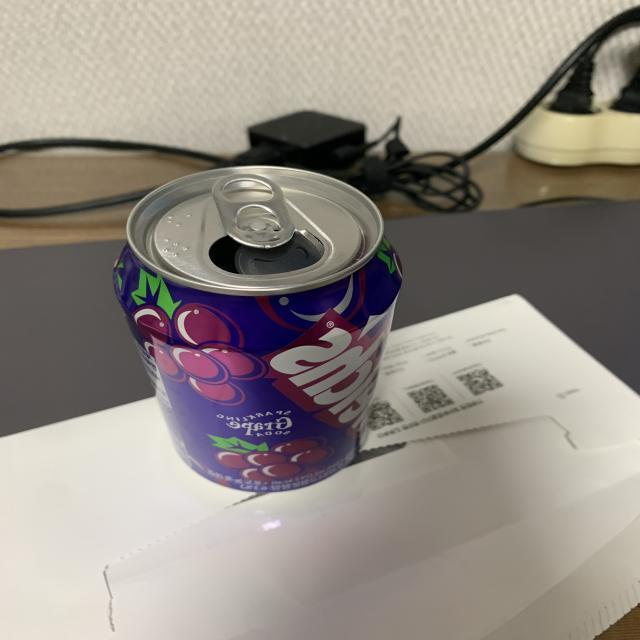metal: (108, 164, 400, 494)
